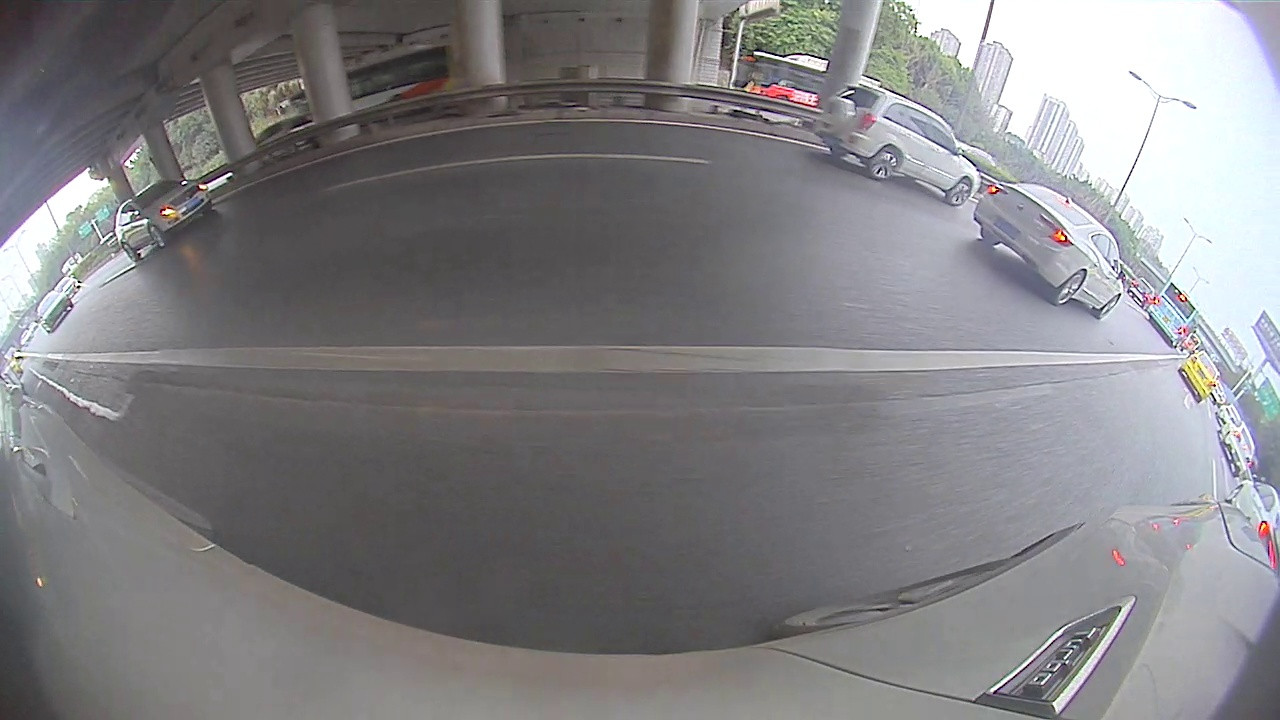bus: (278, 49, 471, 115), (730, 49, 878, 115), (1148, 281, 1196, 346)
car: (815, 77, 981, 207), (974, 183, 1121, 318), (115, 178, 210, 261), (1232, 478, 1278, 544), (1178, 352, 1221, 404), (34, 291, 69, 330)
front: (947, 178, 975, 209), (1096, 296, 1121, 320), (149, 226, 167, 251)
rear: (1053, 269, 1089, 307), (870, 150, 900, 183), (123, 243, 138, 262)
